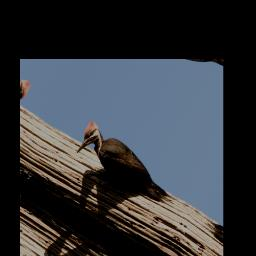Woodpecker: (68, 119, 184, 223)
